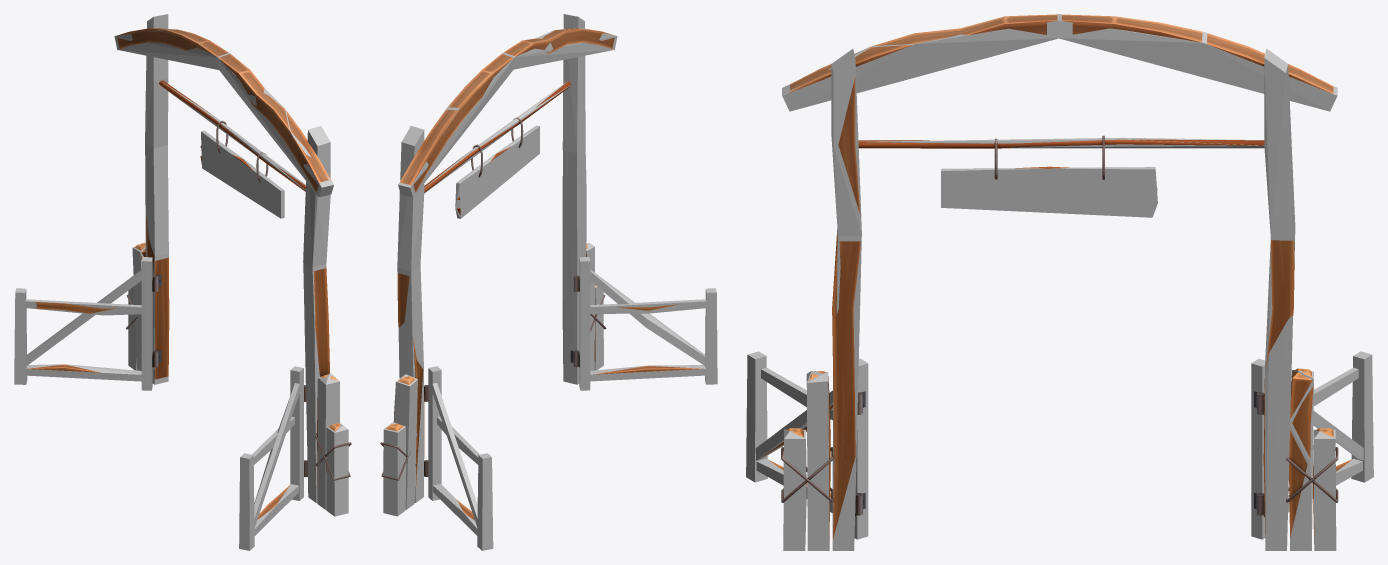
File: SM_Fences01_1.fbx
The picture shows the model from 3 angles, left to right: view 1: azimuth 30°, elevation 25°; view 2: azimuth 150°, elevation 25°; view 3: azimuth 270°, elevation 25°; orthographic projection. The views are drawn at different scales.
Parts seen in each view (by area): view 1: SM_Fences01_1_ConvexHulls, SM_Fences01_1; view 2: SM_Fences01_1_ConvexHulls, SM_Fences01_1; view 3: SM_Fences01_1_ConvexHulls, SM_Fences01_1.
Part boxes in pixels (x1,y1,x2,y2): SM_Fences01_1_ConvexHulls: (14,14,348,550); SM_Fences01_1: (27,28,351,519); SM_Fences01_1_ConvexHulls: (383,14,717,550); SM_Fences01_1: (380,28,703,520); SM_Fences01_1_ConvexHulls: (746,14,1373,550); SM_Fences01_1: (759,14,1352,541).
Bounding box in the file's own units: 133 × 446 × 408.
Materials: 2 (1 with a texture image).
